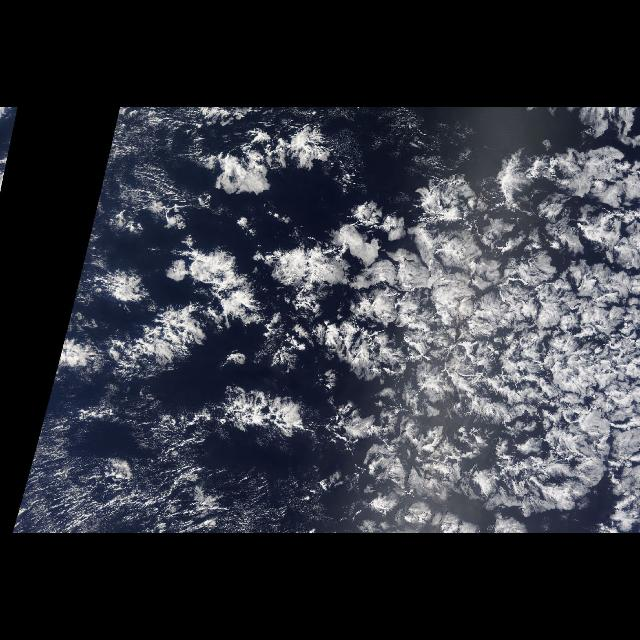Flower: (70, 202, 640, 503)
Sugar: (11, 389, 228, 533)
